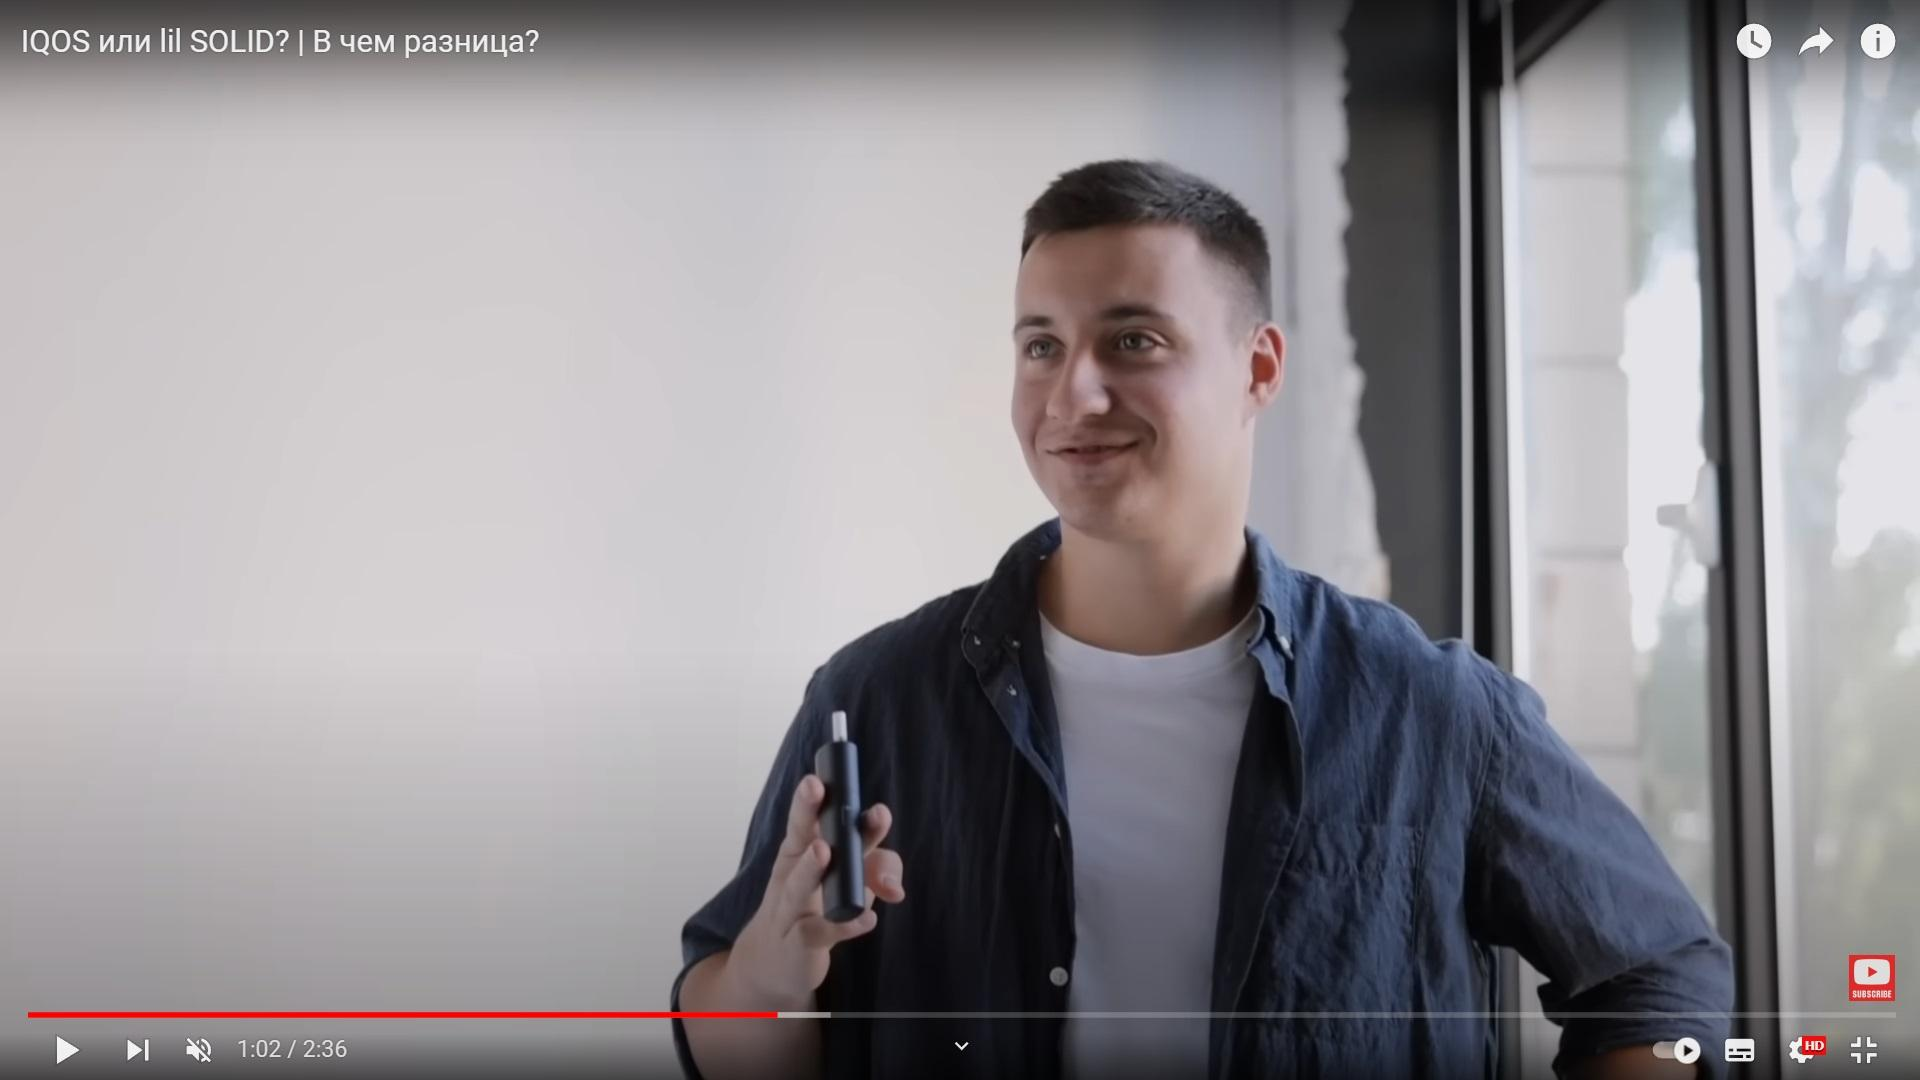iqos: (814, 709, 866, 923)
